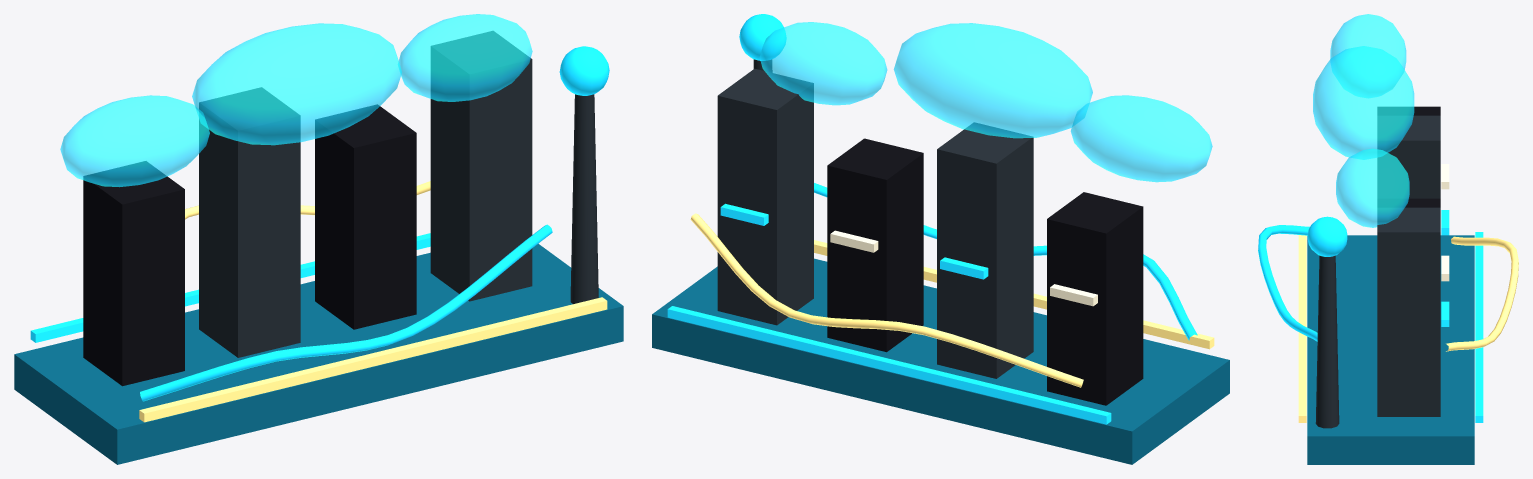
Rendered from cloud-server-pier.glb.
3 renders of one model, left to right at view 1: azimuth 30°, elevation 25°; view 2: azimuth 150°, elevation 25°; view 3: azimuth 270°, elevation 25°, orthographic. The views are drawn at different scales.
Parts seen in each view (by area): view 1: pier-deck, micro-rack-1, micro-rack-3, micro-rack-2, micro-rack-0, low-cloud-mid, low-cloud-left, low-cloud-right, pier-edge-light-right, pier-beacon, pier-cable-a, pier-beacon-head (+1 smaller); view 2: pier-deck, micro-rack-1, micro-rack-3, micro-rack-0, micro-rack-2, low-cloud-mid, low-cloud-left, low-cloud-right, pier-edge-light-left, pier-cable-b, pier-beacon-head, pier-edge-light-right (+5 smaller); view 3: pier-deck, micro-rack-3, low-cloud-mid, micro-rack-1, low-cloud-left, low-cloud-right, pier-beacon, pier-cable-b, pier-edge-light-right, pier-edge-light-left, pier-cable-a, pier-beacon-head (+2 smaller).
Part boxes in pixels (x1,y1,x2,y2): pier-deck: (14, 243, 623, 464); micro-rack-1: (199, 87, 300, 357); micro-rack-3: (430, 31, 532, 301); micro-rack-2: (315, 104, 416, 329); micro-rack-0: (83, 161, 184, 386); low-cloud-mid: (192, 23, 401, 145); low-cloud-left: (60, 95, 209, 186); low-cloud-right: (398, 14, 532, 101); pier-edge-light-right: (139, 297, 607, 422); pier-beacon: (570, 94, 598, 303); pier-cable-a: (140, 224, 552, 401); pier-beacon-head: (559, 46, 609, 95); pier-deck: (652, 258, 1229, 464); micro-rack-1: (937, 122, 1033, 378); micro-rack-3: (717, 68, 813, 325); micro-rack-0: (1047, 192, 1143, 405); micro-rack-2: (827, 138, 923, 352); low-cloud-mid: (894, 23, 1092, 138); low-cloud-left: (1071, 95, 1212, 182); low-cloud-right: (759, 22, 887, 105); pier-edge-light-left: (667, 306, 1111, 424); pier-cable-b: (690, 213, 1083, 387); pier-beacon-head: (739, 14, 786, 60); pier-edge-light-right: (814, 240, 1214, 349); pier-deck: (1307, 235, 1474, 464); micro-rack-3: (1377, 207, 1440, 416); low-cloud-mid: (1313, 46, 1414, 159); micro-rack-1: (1377, 115, 1440, 198); low-cloud-left: (1330, 14, 1406, 97); low-cloud-right: (1336, 148, 1409, 227); pier-beacon: (1315, 255, 1339, 428); pier-cable-b: (1446, 236, 1518, 351); pier-edge-light-right: (1298, 235, 1306, 422); pier-edge-light-left: (1475, 232, 1483, 422); pier-cable-a: (1258, 225, 1317, 341); pier-beacon-head: (1307, 216, 1347, 256).
Bounding box in the file's own units: 2.17 × 1.4 × 1.15.
